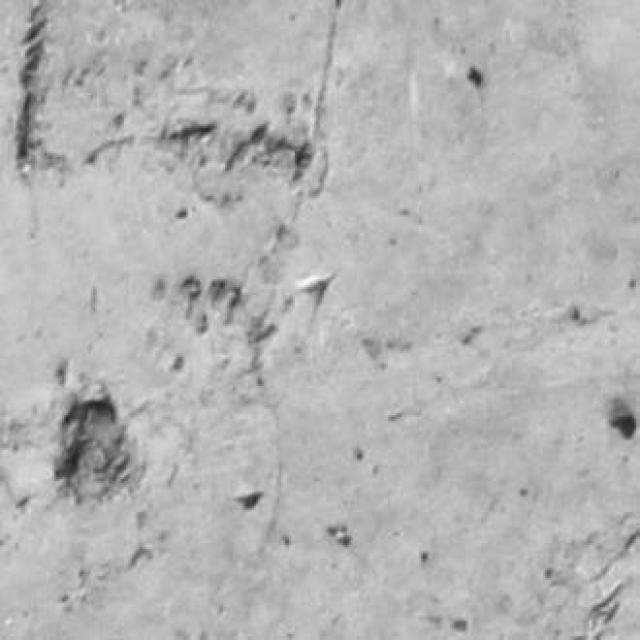crack: (307, 0, 341, 197), (16, 2, 48, 180), (590, 528, 639, 581)
